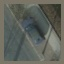car: (20, 11, 47, 48)
